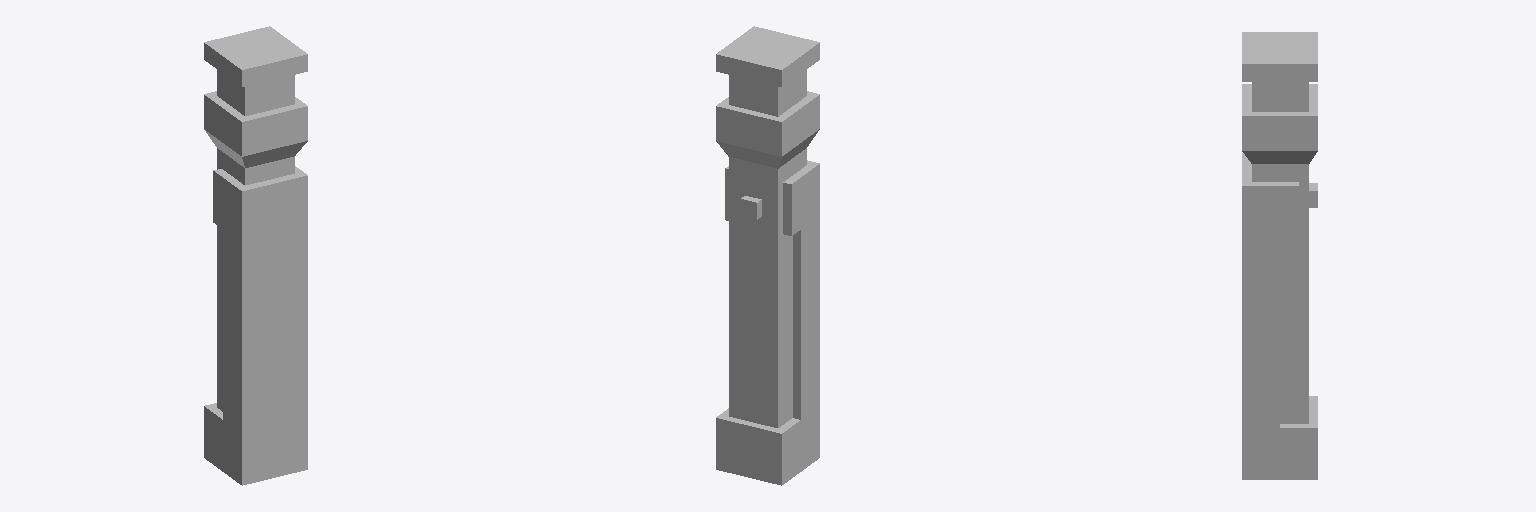
The model's file is QuiGon.obj.
3 renders of one model, left to right at view 1: azimuth 30°, elevation 25°; view 2: azimuth 150°, elevation 25°; view 3: azimuth 270°, elevation 25°, orthographic.
Parts seen in each view (by area): view 1: Plane.002_Plane.017; view 2: Plane.002_Plane.017; view 3: Plane.002_Plane.017.
Part boxes in pixels (left/top/right/bottom): Plane.002_Plane.017: left=204, top=26, right=307, bottom=485; Plane.002_Plane.017: left=716, top=26, right=819, bottom=485; Plane.002_Plane.017: left=1242, top=32, right=1317, bottom=479.
Size of the model in its own units: 0.4 by 2.4 by 0.4.